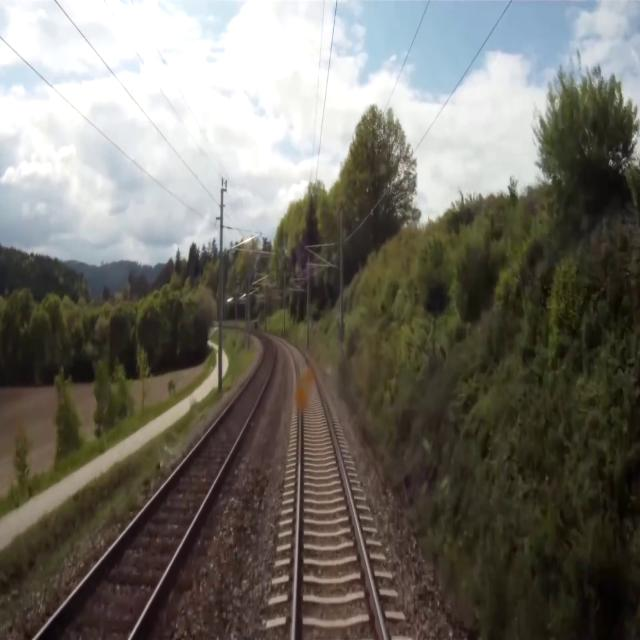rail-track: (38, 338, 273, 639), (288, 344, 384, 639)
